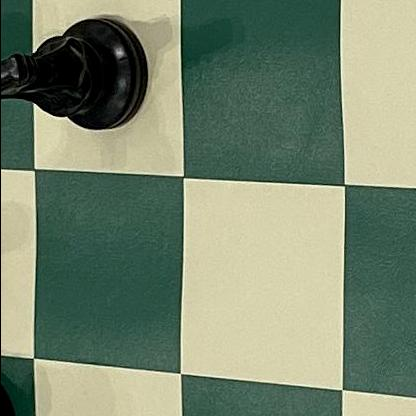black-knight: (0, 4, 155, 146)
